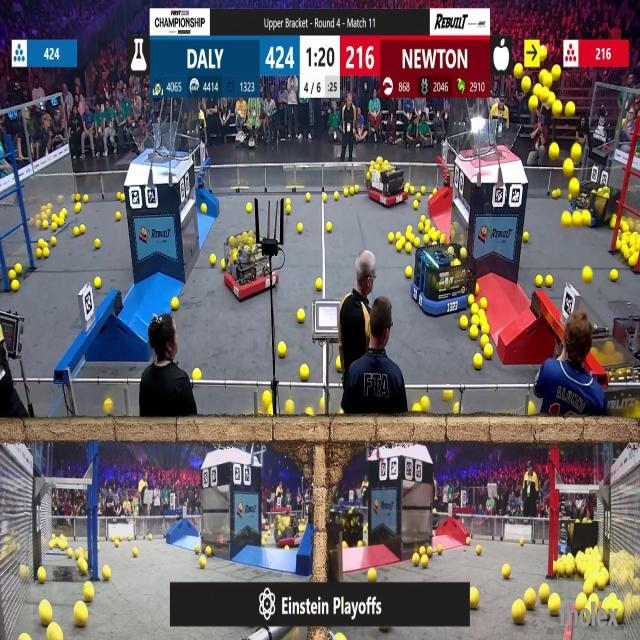ball_airborne: (564, 160, 574, 178), (550, 143, 560, 159), (571, 144, 581, 160), (569, 178, 579, 194), (582, 211, 592, 226), (541, 73, 551, 86), (584, 268, 593, 282), (565, 102, 574, 116), (553, 66, 562, 79), (529, 97, 538, 110), (554, 102, 562, 116), (516, 64, 524, 78), (563, 212, 571, 226), (572, 212, 580, 226), (523, 77, 531, 89), (533, 85, 541, 97), (546, 92, 554, 104)
ball_ground: (40, 604, 52, 628), (75, 605, 87, 629), (514, 603, 526, 626), (549, 596, 561, 616), (525, 590, 536, 608), (49, 626, 63, 640), (86, 584, 96, 603), (469, 589, 478, 609), (538, 586, 548, 603), (576, 594, 585, 611), (585, 582, 595, 596), (473, 354, 482, 369), (301, 364, 310, 379), (104, 401, 113, 416), (617, 606, 625, 622), (501, 564, 510, 578), (565, 564, 574, 578), (278, 343, 286, 358), (367, 568, 375, 582), (172, 298, 180, 312), (102, 566, 110, 580), (38, 568, 46, 582), (527, 404, 535, 418), (285, 400, 293, 414), (78, 560, 86, 574), (629, 258, 638, 270), (296, 310, 304, 323), (421, 396, 429, 409), (485, 346, 493, 359), (264, 391, 272, 404), (544, 275, 552, 287), (192, 367, 200, 379), (469, 326, 477, 338), (460, 317, 468, 329), (420, 556, 428, 568), (452, 405, 460, 417), (480, 296, 488, 307), (445, 390, 453, 401), (610, 270, 617, 282), (316, 278, 323, 290), (95, 278, 102, 289), (535, 276, 542, 287), (11, 281, 18, 292), (413, 555, 420, 566), (201, 556, 207, 568), (470, 316, 478, 325), (337, 358, 343, 370), (523, 233, 530, 243), (388, 234, 395, 244), (483, 324, 490, 334), (470, 305, 477, 315), (407, 268, 413, 279), (133, 548, 139, 559), (75, 203, 81, 214), (616, 240, 622, 251), (474, 283, 480, 294), (413, 406, 421, 414), (307, 409, 314, 418), (467, 294, 474, 303), (296, 222, 302, 232), (43, 248, 49, 258), (210, 254, 216, 264), (194, 543, 200, 553), (36, 248, 42, 258), (325, 221, 331, 231), (395, 232, 401, 242), (68, 549, 74, 559), (395, 242, 401, 252), (482, 336, 488, 346), (609, 218, 615, 228), (95, 240, 101, 249), (50, 238, 56, 247), (306, 192, 312, 201), (206, 546, 212, 555), (22, 634, 31, 640), (202, 204, 208, 213), (413, 201, 419, 210), (246, 204, 252, 213), (420, 545, 426, 554), (480, 310, 486, 319), (269, 408, 274, 418), (15, 265, 20, 275), (427, 545, 432, 555), (424, 235, 429, 245), (442, 235, 447, 245), (8, 272, 14, 280), (418, 223, 424, 231), (436, 546, 442, 554), (42, 220, 48, 228), (354, 184, 360, 192), (335, 191, 341, 199), (420, 215, 426, 223), (409, 234, 415, 242), (38, 240, 44, 248), (338, 634, 346, 640), (322, 192, 327, 201), (475, 544, 480, 553), (83, 193, 88, 202), (407, 242, 412, 251), (553, 189, 558, 198), (415, 239, 420, 248), (74, 226, 79, 235), (220, 262, 225, 271), (286, 207, 292, 214), (420, 186, 426, 193), (75, 193, 81, 200), (286, 199, 292, 206), (342, 541, 348, 548), (408, 224, 413, 232), (51, 222, 56, 230), (320, 398, 324, 408), (114, 539, 119, 547), (83, 553, 88, 561), (411, 186, 416, 194), (63, 210, 68, 218), (424, 223, 429, 231), (116, 212, 120, 221), (416, 192, 421, 199), (466, 536, 470, 544), (80, 224, 84, 232), (119, 192, 123, 200), (340, 411, 345, 417), (148, 537, 152, 544), (345, 188, 349, 195), (520, 538, 524, 545), (129, 534, 133, 541), (284, 544, 288, 550)
goal: (465, 121, 520, 160), (130, 130, 190, 160)
robot_blue: (413, 241, 473, 318), (572, 182, 612, 227)
robot_red: (586, 325, 640, 411), (223, 232, 278, 302), (366, 158, 406, 206), (275, 513, 302, 547)
